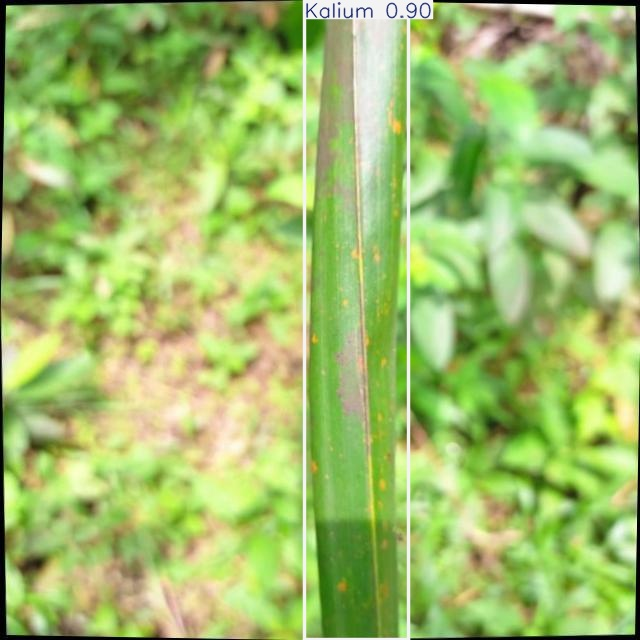Kalium: (305, 0, 409, 639)
